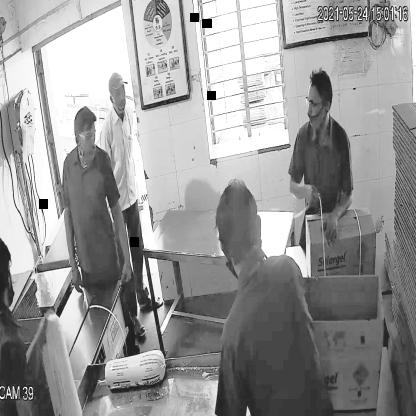goggles: (301, 91, 331, 112), (72, 128, 100, 146)
no_goggles: (107, 86, 130, 102)
